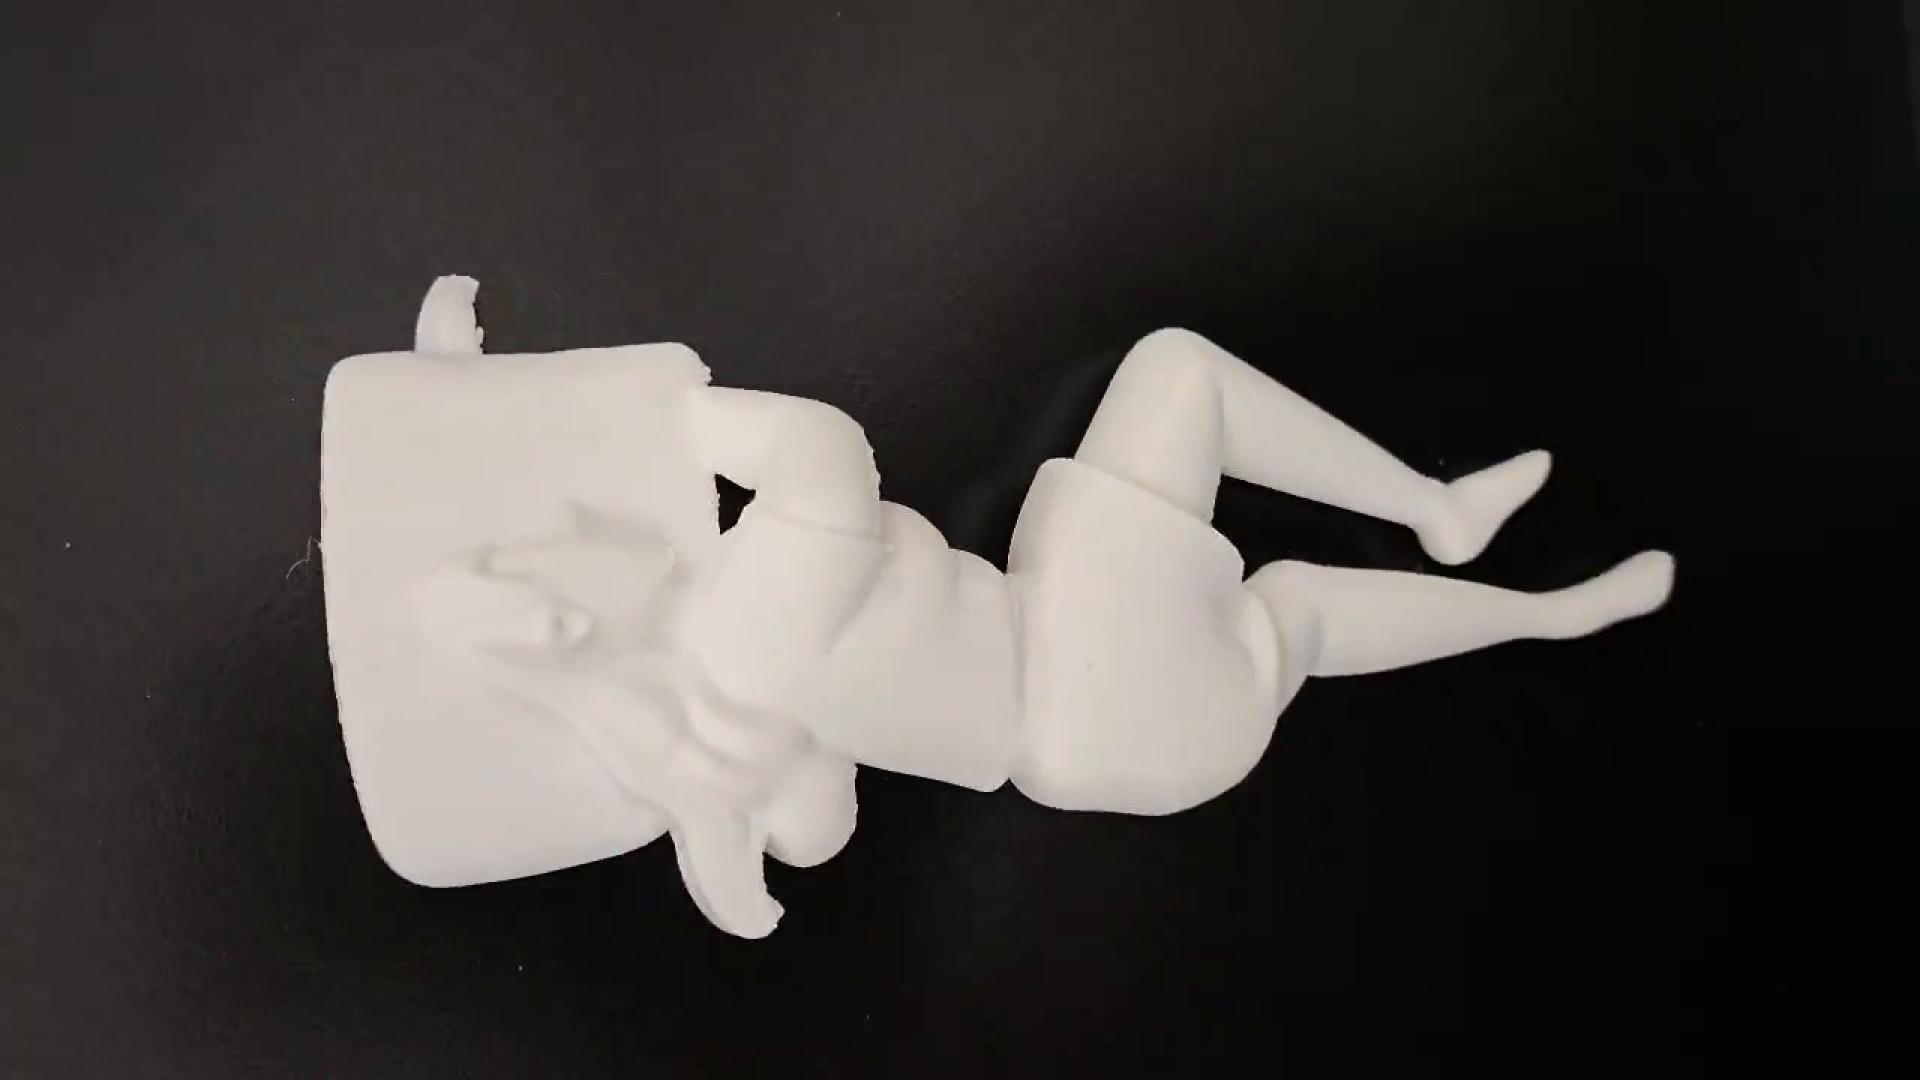Good-style: (313, 266, 1685, 952)
